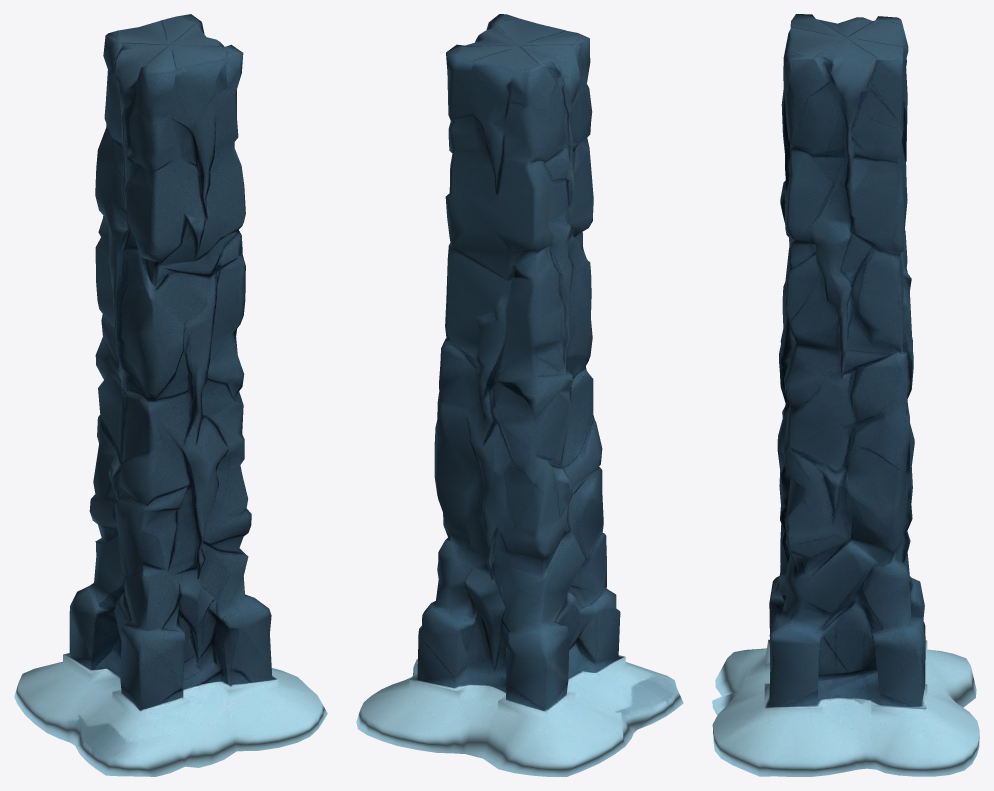
The model's file is icePillar.glb.
3 views of the same model, side by side, from view 1: azimuth 30°, elevation 25°; view 2: azimuth 150°, elevation 25°; view 3: azimuth 270°, elevation 25° (orthographic). The views are drawn at different scales.
Bounding box in the file's own units: 0.3452 × 0.9526 × 0.3383.
Materials: 1 (1 with a texture image).
